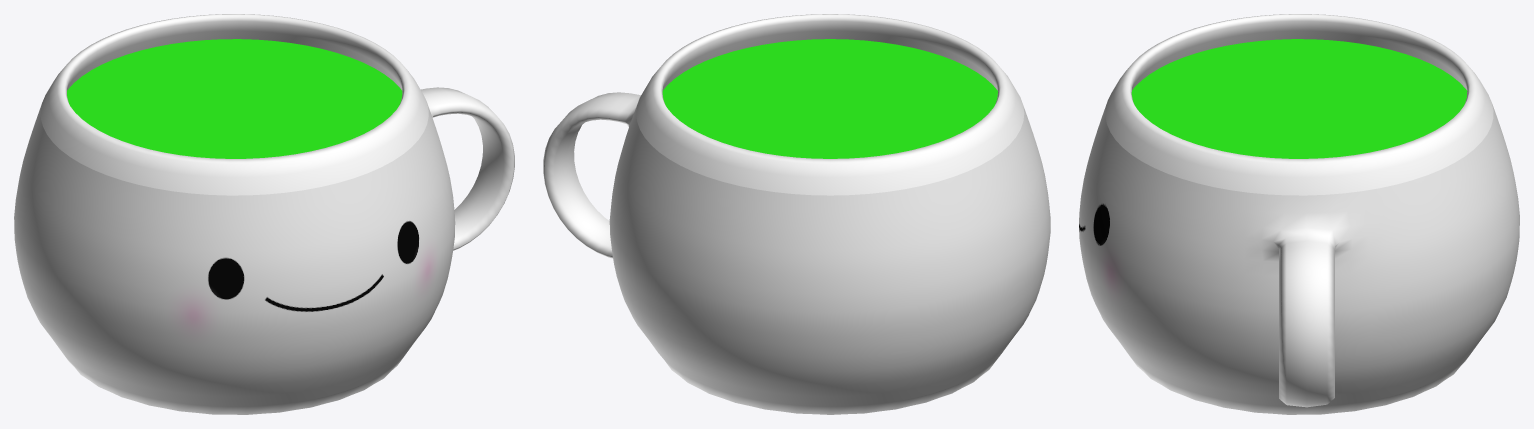
Rendered from matcha.glb.
3 renders of one model, left to right at view 1: azimuth 30°, elevation 25°; view 2: azimuth 150°, elevation 25°; view 3: azimuth 270°, elevation 25°, orthographic.
Visible parts, largest first — view 1: Cylinder; view 2: Cylinder; view 3: Cylinder.
Part boxes in pixels (left/top/right/bottom): Cylinder: left=14, top=14, right=514, bottom=414; Cylinder: left=543, top=14, right=1050, bottom=414; Cylinder: left=1079, top=14, right=1519, bottom=414.
Bounding box in the file's own units: 3.02 × 1.65 × 2.47.
2 materials, 1 textured.
